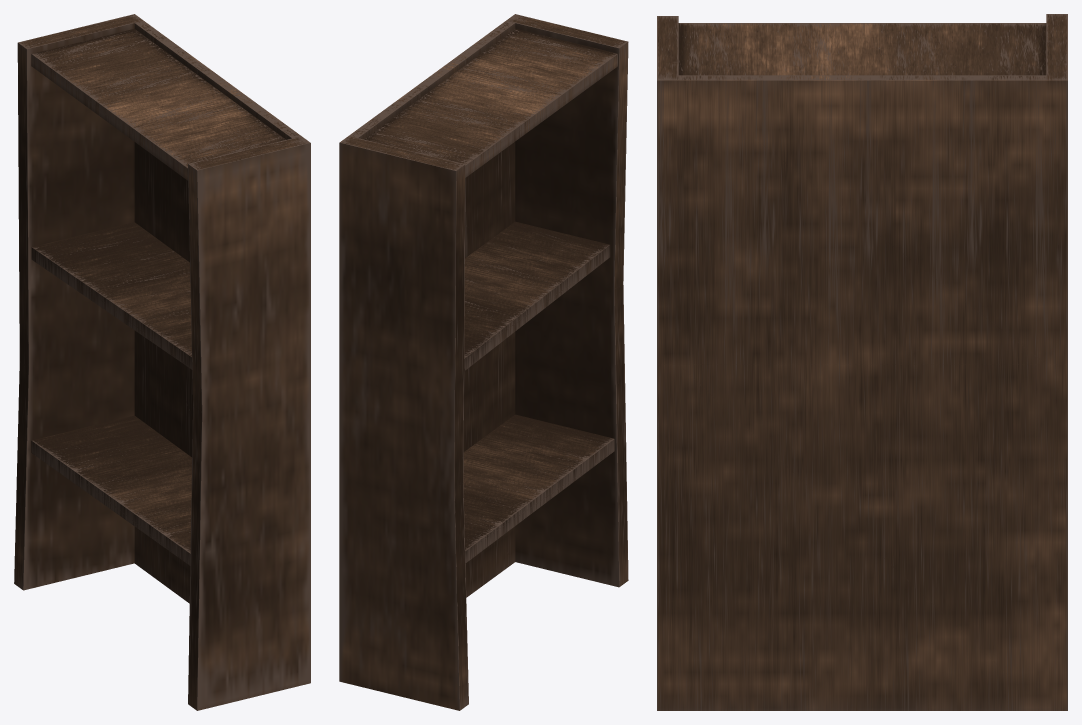
Rendered from shelf.glb.
3 renders of one model, left to right at view 1: azimuth 30°, elevation 25°; view 2: azimuth 150°, elevation 25°; view 3: azimuth 270°, elevation 25°, orthographic. The views are drawn at different scales.
Visible parts, largest first — view 1: shelf; view 2: shelf; view 3: shelf.
Boxes of the visible parts, <box> form: shelf: <box>14,14,310,710</box>; shelf: <box>339,14,628,710</box>; shelf: <box>657,14,1067,710</box>.
Size of the model in its own units: 0.3979 by 1.7 by 1.01.
Materials: 1 (1 with a texture image).
